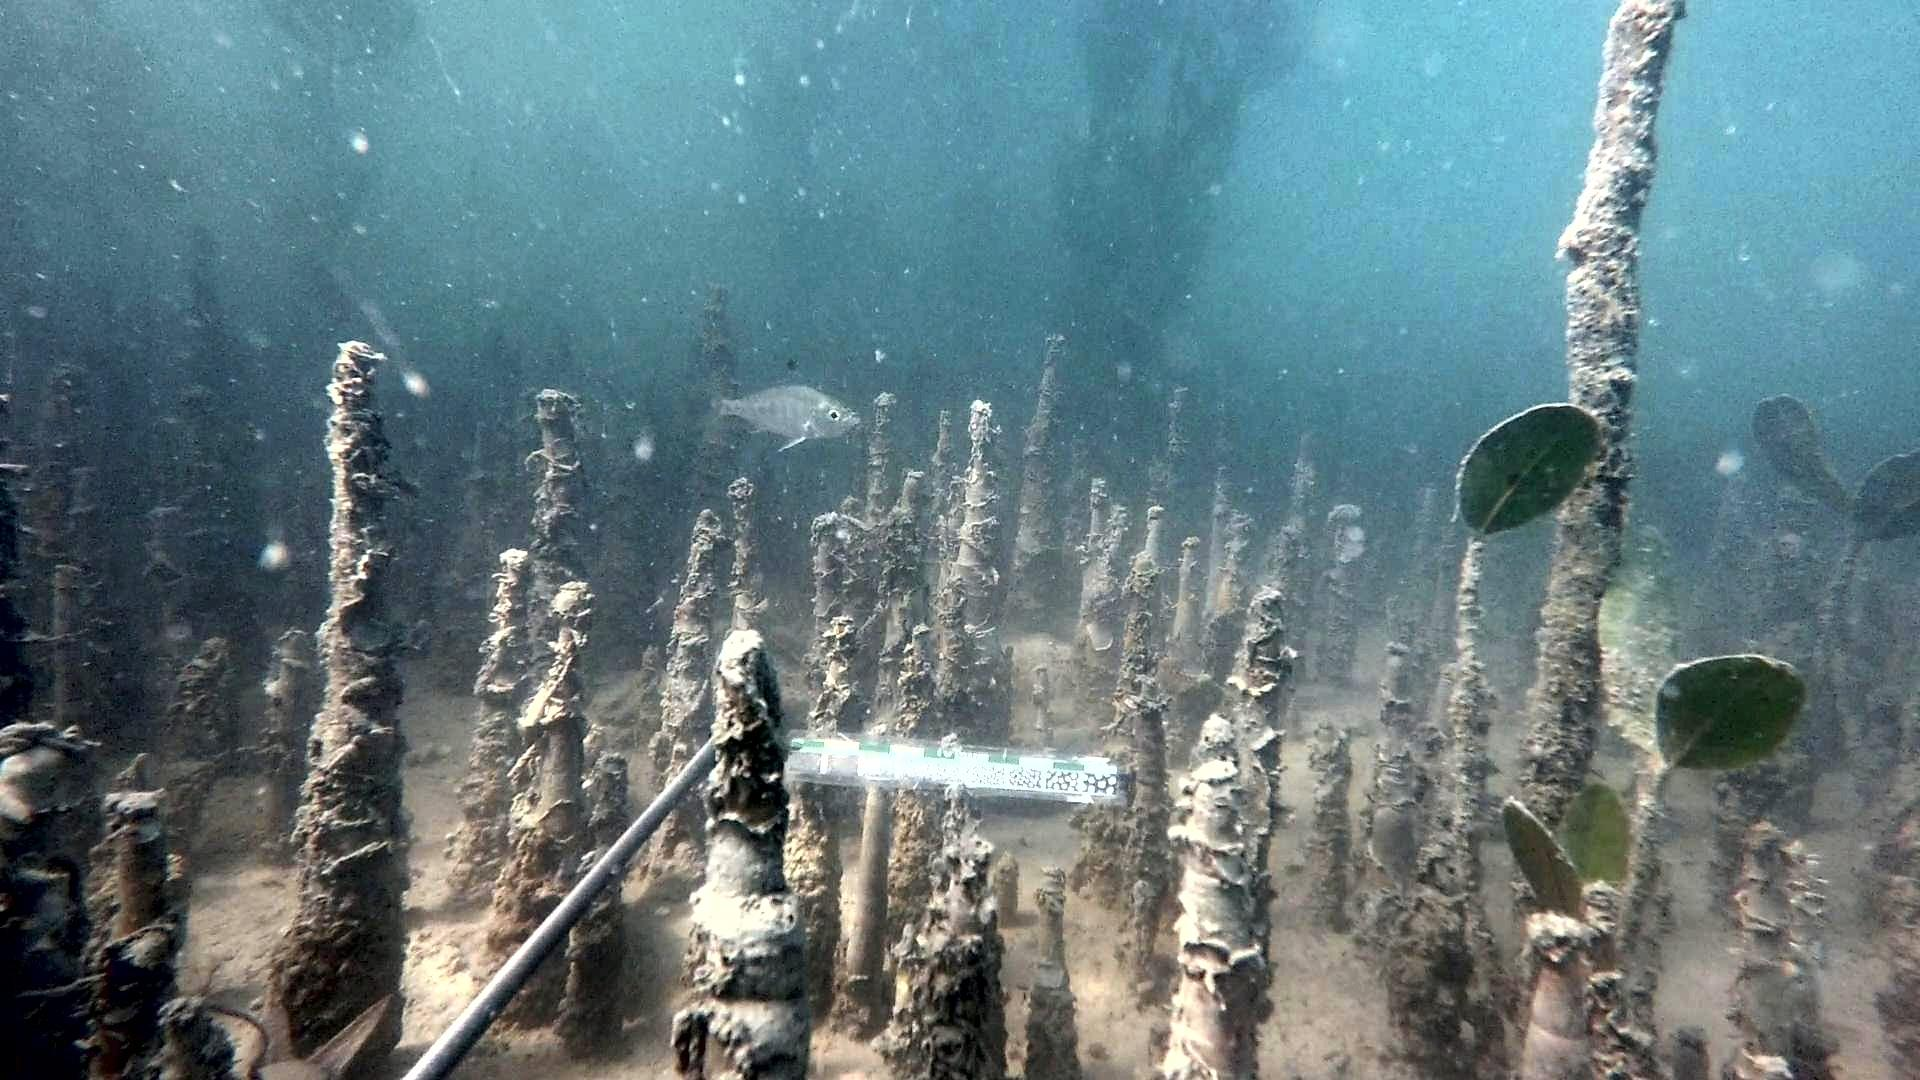gerres: (695, 357, 861, 452)
